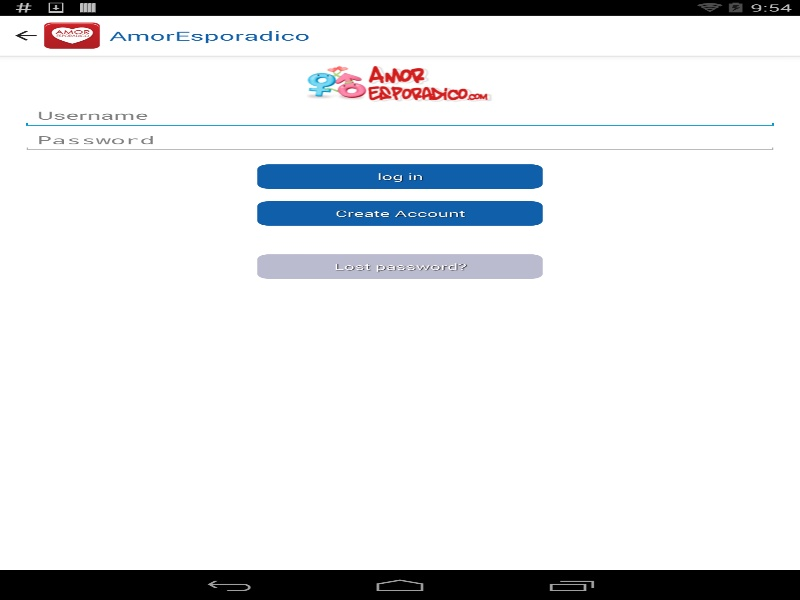Button: (253, 162, 546, 190), (253, 199, 546, 227), (253, 252, 546, 280), (0, 18, 40, 53)
Input: (21, 127, 778, 152), (21, 103, 778, 127)
